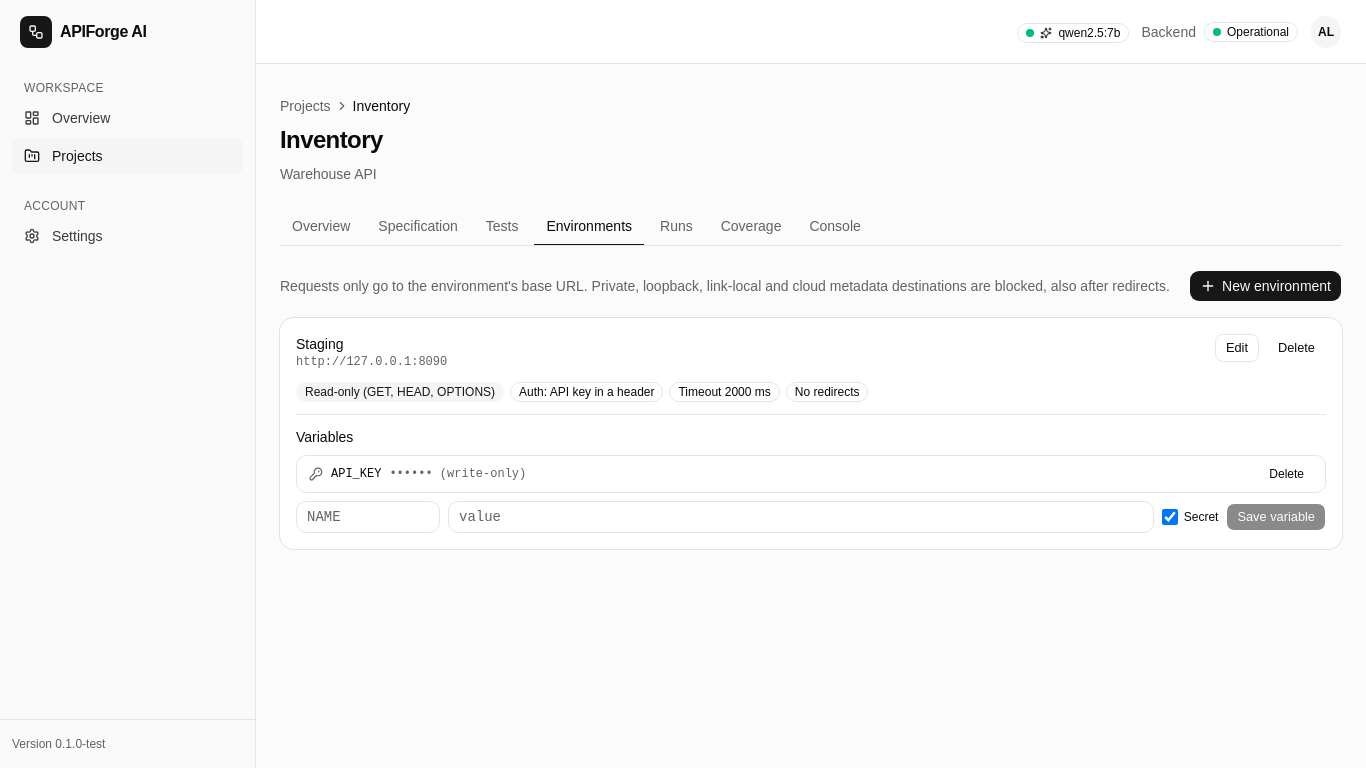
Test case: Environments › keeps secret variables write-only
The width and height of the screenshot is (1366, 768).
expect the text "•••••• (write-only)" is shown: met, box [389,467,526,481]
Type "TOKEN" into the field named "Variable name" at point(368, 517), box [296,501,440,533]
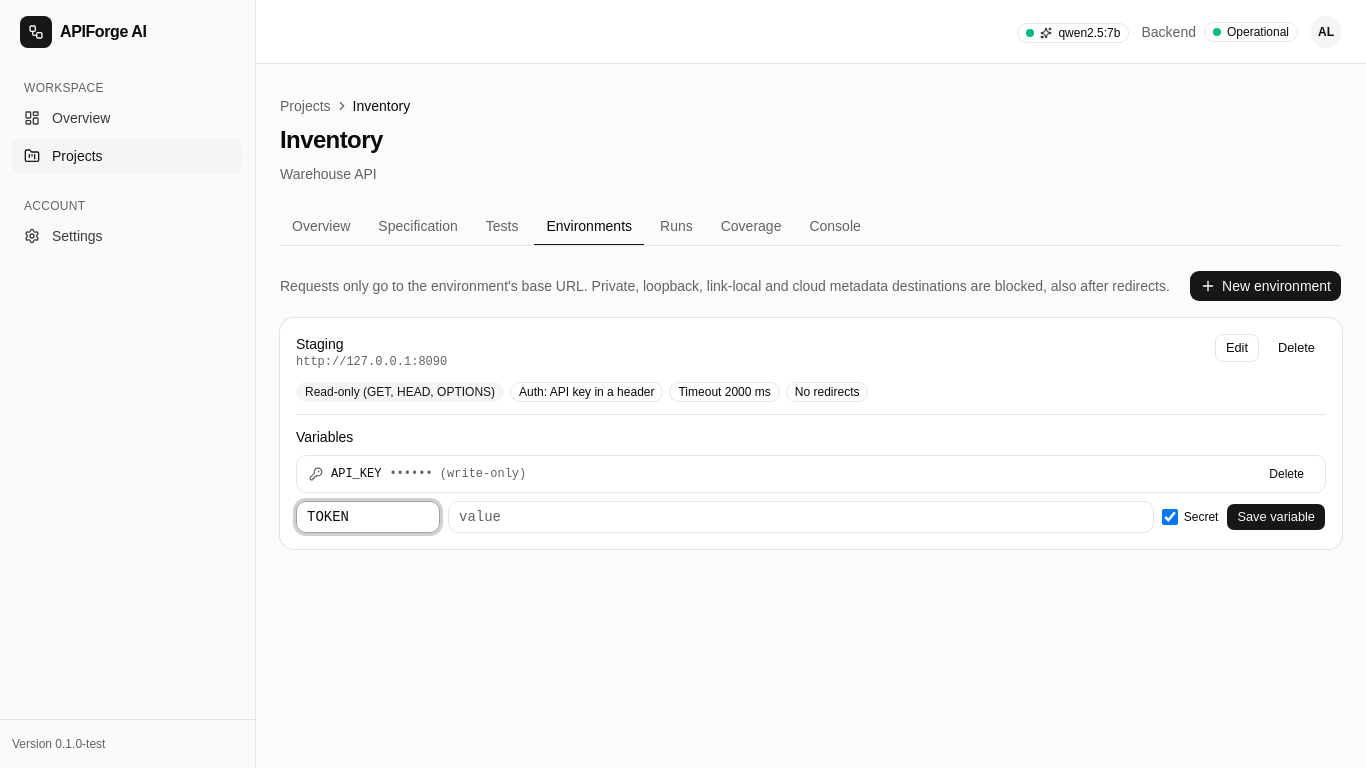
Type "top-secret" into the password field named "Variable value" at point(801, 517), box [448,501,1154,533]
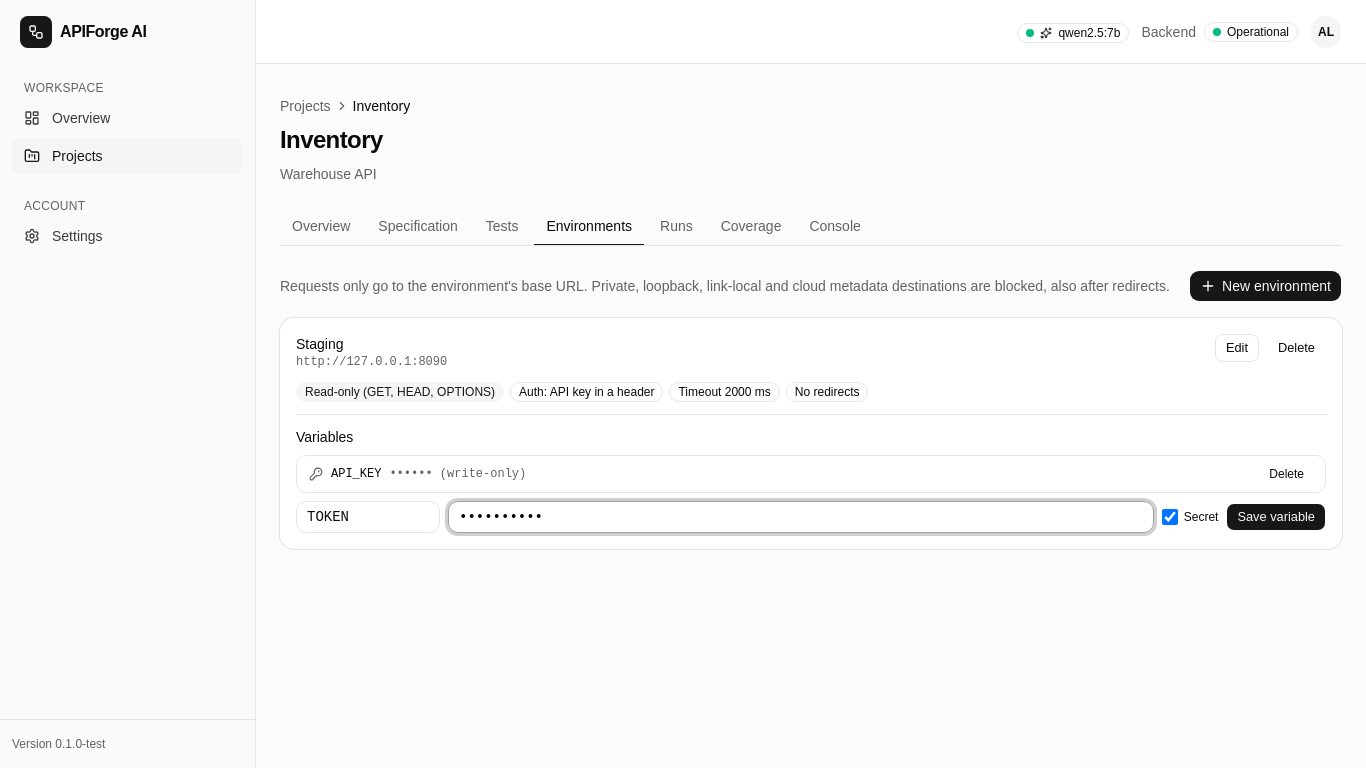
Click the button "Save variable" at point(1276, 517), box [1226,503,1326,531]
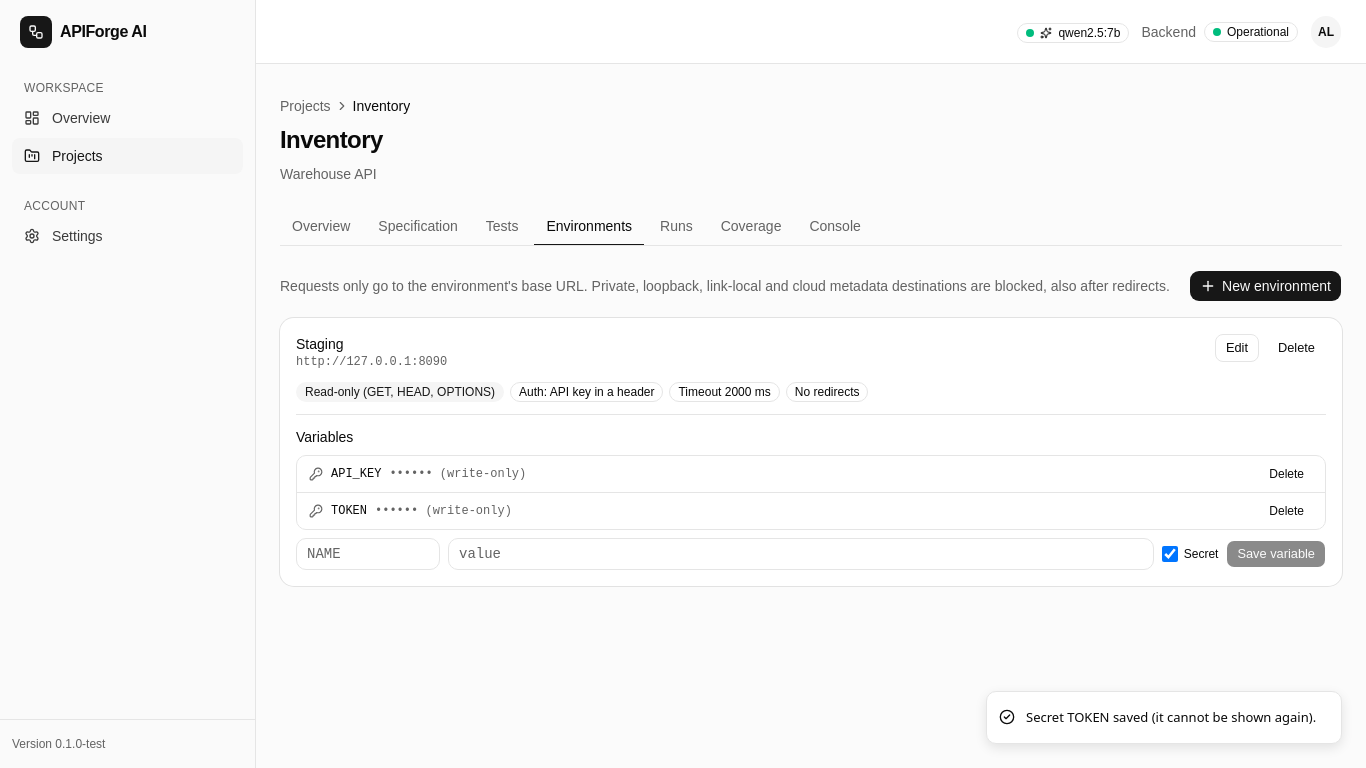
expect the text "Secret TOKEN saved (it cannot be shown again)." is shown: met, box [1026,708,1316,727]
